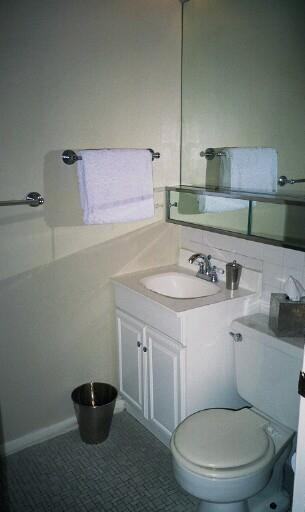Bote de Basura: (63, 377, 125, 450)
Lavamanos: (143, 246, 226, 311)
Sanitario: (169, 318, 302, 509)
